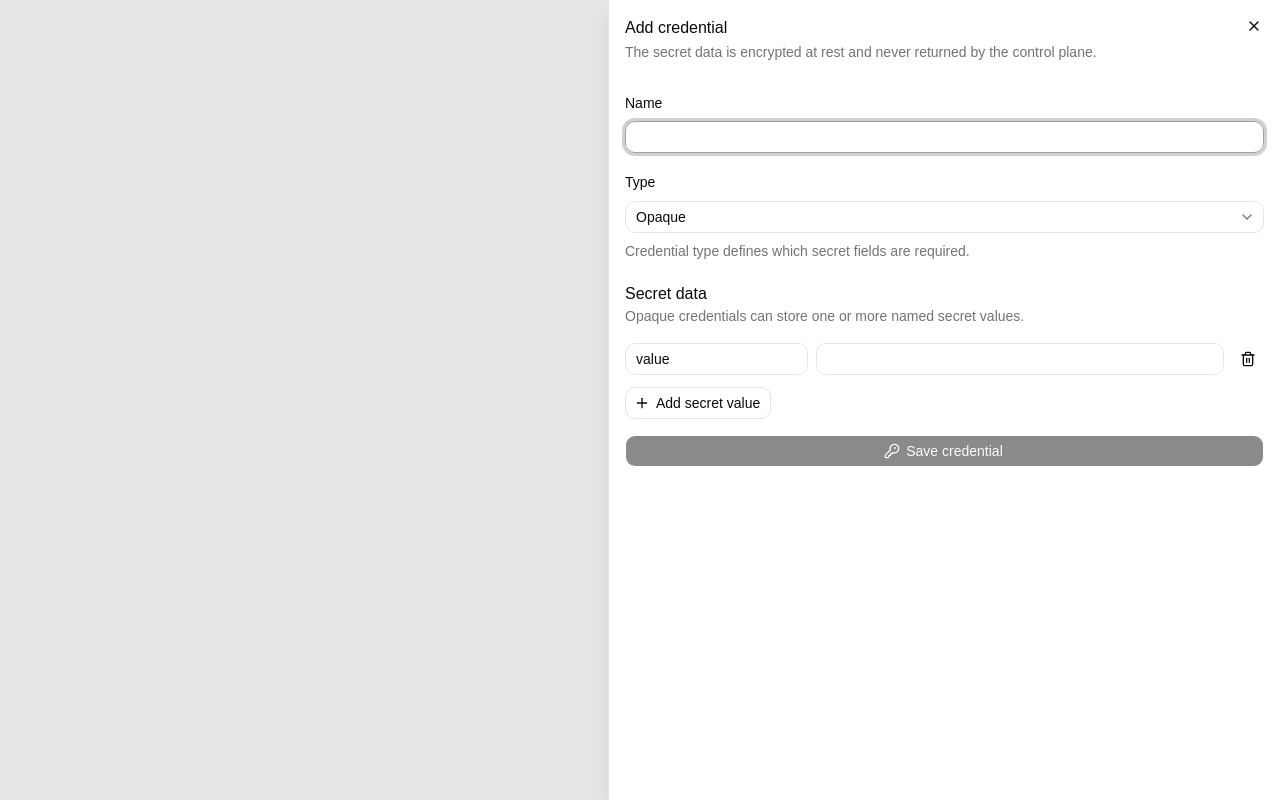
Test: [spec: vaults/add-credential-sheet] AddCredentialSheet › enables the submit button when name and secret value are filled
Type "My key" into the field labelled "Name" at (944, 137), box top-left (625, 121), bottom-right (1264, 153)
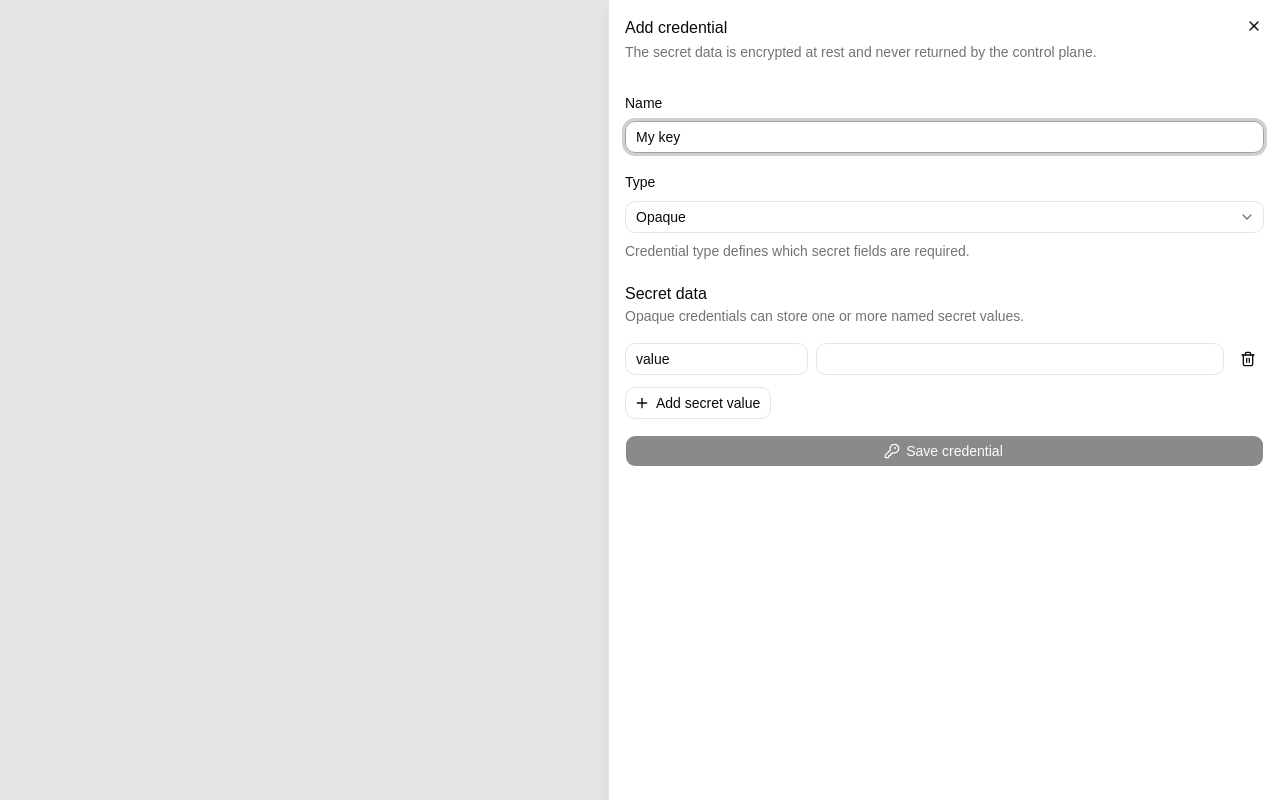
Type "sk-supersecret" into the password field named "Data value 1" at (1020, 358), box top-left (816, 342), bottom-right (1224, 374)
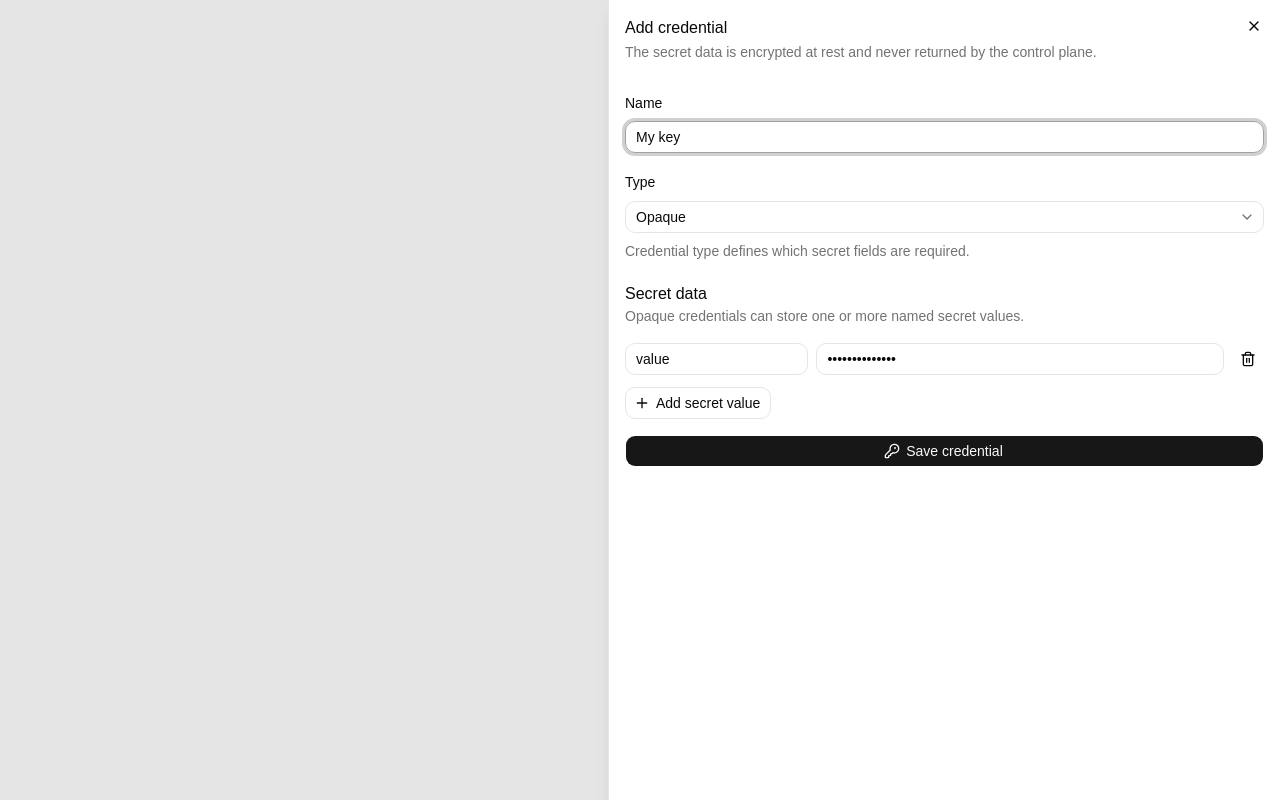
Check: the button "Save credential" is enabled, box top-left (625, 434), bottom-right (1264, 466)
